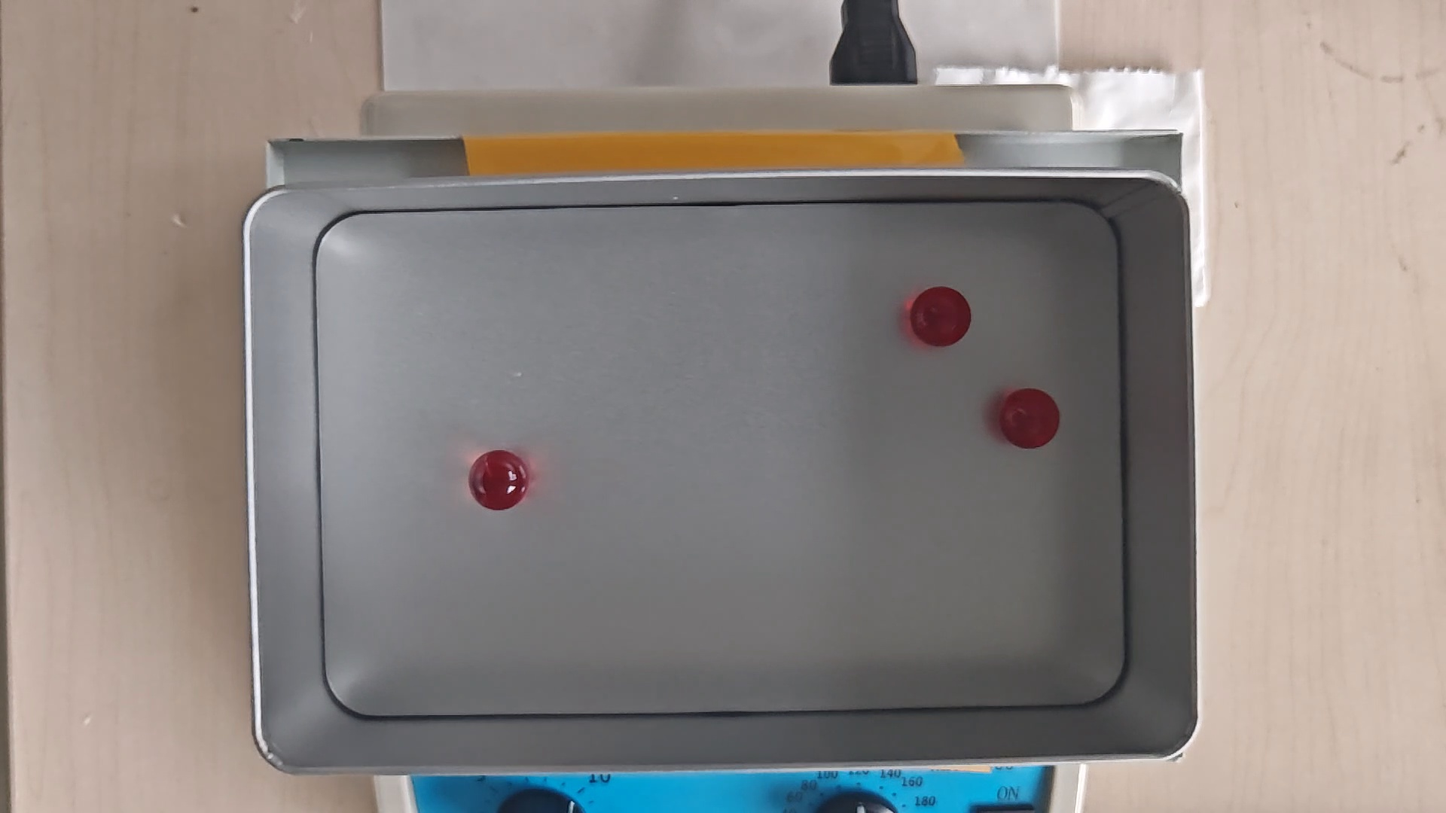ball: (911, 286, 972, 348), (469, 449, 527, 511), (1002, 388, 1059, 450)
container: (318, 202, 1124, 714)
